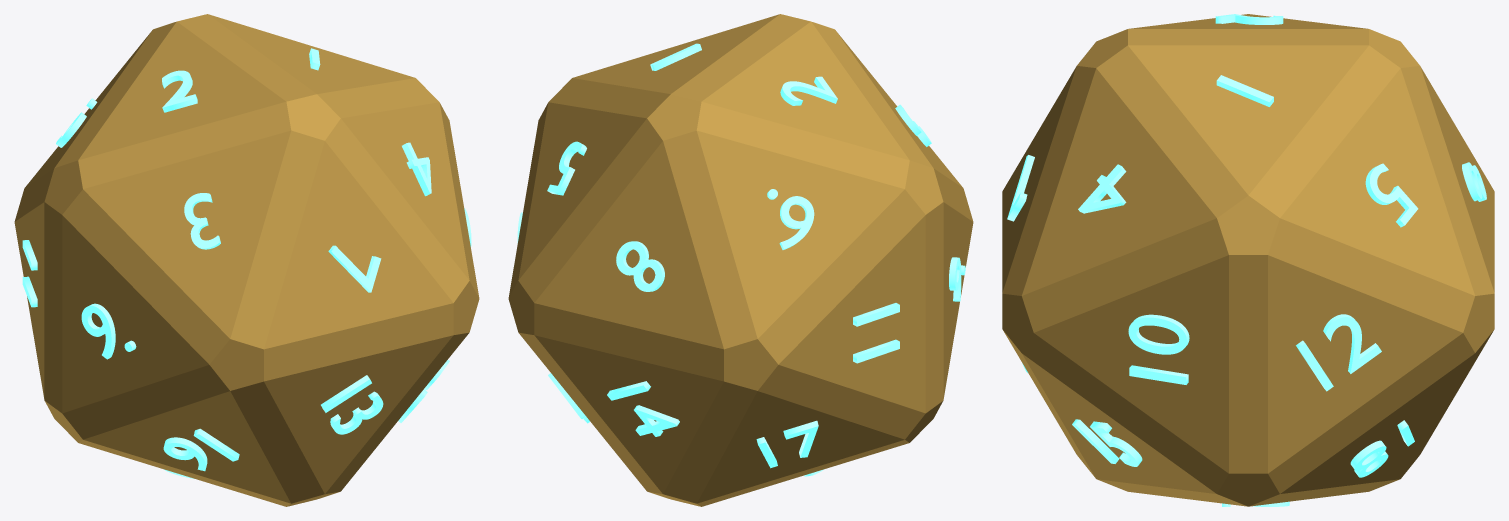
3 views of the same model, side by side, from view 1: azimuth 30°, elevation 25°; view 2: azimuth 150°, elevation 25°; view 3: azimuth 270°, elevation 25° (orthographic). The views are drawn at different scales.
Parts seen in each view (by area): view 1: Dado, Numeros; view 2: Dado, Numeros; view 3: Dado, Numeros.
Part boxes in pixels (<box>): Dado: <box>14,14,479,506</box>; Numeros: <box>22,48,471,478</box>; Dado: <box>508,14,973,506</box>; Numeros: <box>517,43,965,476</box>; Dado: <box>1002,14,1494,506</box>; Numeros: <box>1007,14,1486,506</box>.
Bounding box in the file's own units: 0.8257 × 0.8257 × 0.8257.
